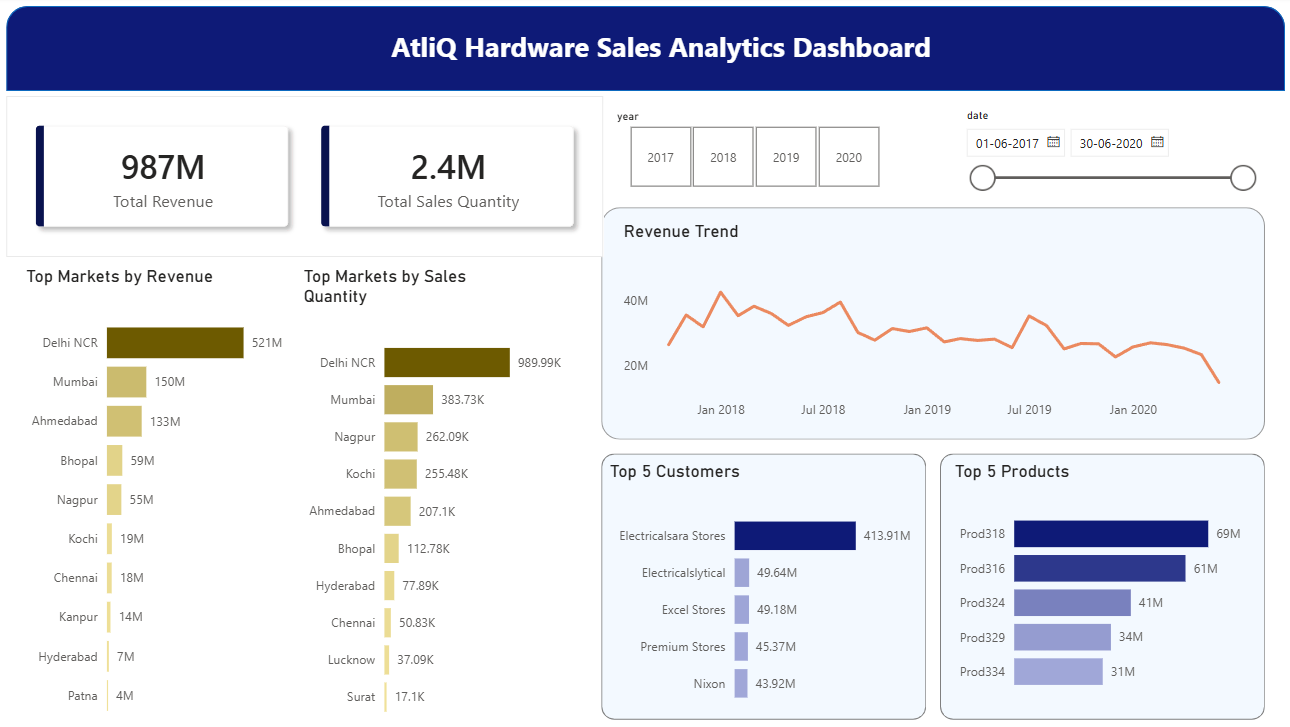

This screenshot's page, from the dashboard's own definition file:
{"tool":"powerbi","page":{"name":"Page 1","canvas":[1280,720],"ordinal":0},"visuals":[{"type":"shape","box":[598,206.7,649.3,227.4],"z":0},{"type":"cardVisual","fields":{"Data":["transactions.Total Revenue","transactions.Total Sales Quantity"]},"box":[15.9,97.8,584.5,157.7],"z":1000},{"type":"clusteredBarChart","title":"Top Markets by Revenue","fields":{"Y":["transactions.Total Revenue"],"Category":["markets.markets_name"]},"box":[30.6,264.1,261.7,456.1],"z":3000},{"type":"clusteredBarChart","title":"Top Markets by Sales Quantity","fields":{"Category":["markets.markets_name"],"Y":["transactions.Total Sales Quantity"]},"box":[302,264.1,261.7,456.1],"z":4000},{"type":"shape","box":[15.9,9.8,1251,83.2],"z":5000},{"type":"lineChart","title":"Revenue Trend","fields":{"Y":["transactions.Total Revenue"],"Category":["date.cy_date.Variation.Date Hierarchy.Year","date.cy_date.Variation.Date Hierarchy.Quarter","date.cy_date.Variation.Date Hierarchy.Month","date.cy_date.Variation.Date Hierarchy.Day"]},"box":[615.1,220.1,616.3,203],"z":6000},{"type":"shape","box":[928.9,447.3,317.9,260.5],"z":7000},{"type":"textbox","box":[251.9,25.7,809.5,51.4],"z":8000},{"type":"shape","box":[597.5,447.3,317.9,260.5],"z":9000},{"type":"clusteredBarChart","title":"Top 5 Products","fields":{"Y":["transactions.Total Revenue"],"Category":["transactions.product_code"]},"box":[938.6,454.6,289.8,238.5],"z":10000},{"type":"clusteredBarChart","title":"Top 5 Customers","fields":{"Category":["customers.custmer_name"],"Y":["transactions.Total Revenue"]},"box":[601.6,454.9,304.5,251.9],"z":11000},{"type":"slicer","fields":{"Values":["date.date"]},"box":[942.8,105.2,304.5,86.8],"z":12000},{"type":"slicer","fields":{"Values":["date.year"]},"box":[600.4,106.4,293.5,86.8],"z":13000}]}

Visuals, with their boxes in screenshot pixels (x1, y1, x2, y2), scaled from the page's 1280x720 canvas onto the 1290x727 screenshot:
shape: rect(603, 209, 1257, 438)
cardVisual - transactions.Total Revenue x transactions.Total Sales Quantity: rect(16, 99, 605, 258)
"Top Markets by Revenue" clusteredBarChart: rect(31, 267, 295, 726)
"Top Markets by Sales Quantity" clusteredBarChart: rect(304, 267, 568, 726)
shape: rect(16, 10, 1277, 94)
"Revenue Trend" lineChart: rect(620, 222, 1241, 427)
shape: rect(936, 452, 1257, 715)
textbox: rect(254, 26, 1070, 78)
shape: rect(602, 452, 923, 715)
"Top 5 Products" clusteredBarChart: rect(946, 459, 1238, 700)
"Top 5 Customers" clusteredBarChart: rect(606, 459, 913, 714)
slicer - date.date: rect(950, 106, 1257, 194)
slicer - date.year: rect(605, 107, 901, 195)
